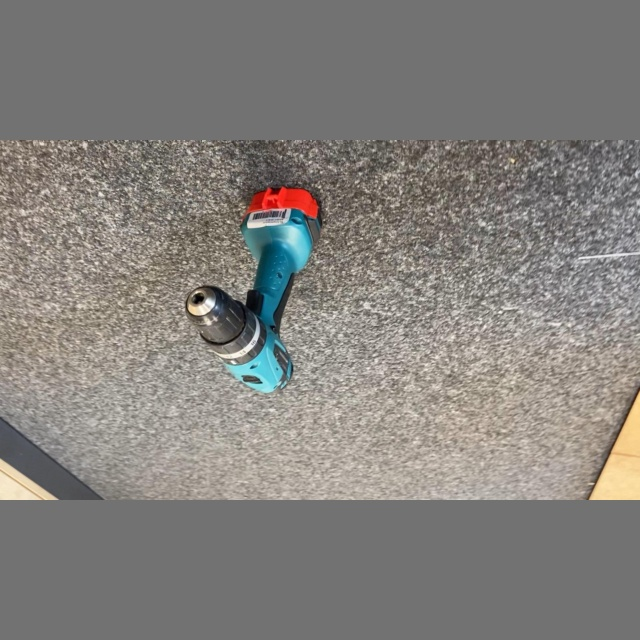drill: (179, 183, 329, 400)
